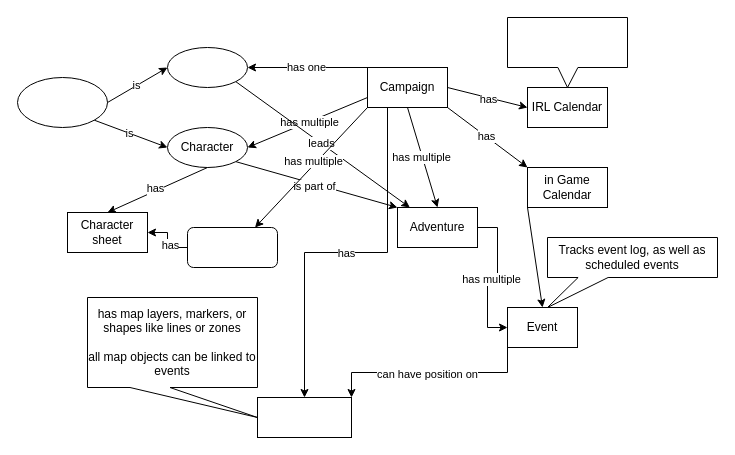
Some shapes in this 735 by 455 pixel diagram are drawn without their labels. The shapes that lost their labels are listed below. From the top down, each one's centre as x and y in pixels, then its label:
At pixel 207 67: "Game Ma ster".
At pixel 567 52: "Tracks and schedules session dates/times per adventure".
At pixel 62 102: "User".
At pixel 232 247: "NPC".
At pixel 304 417: "Map".
